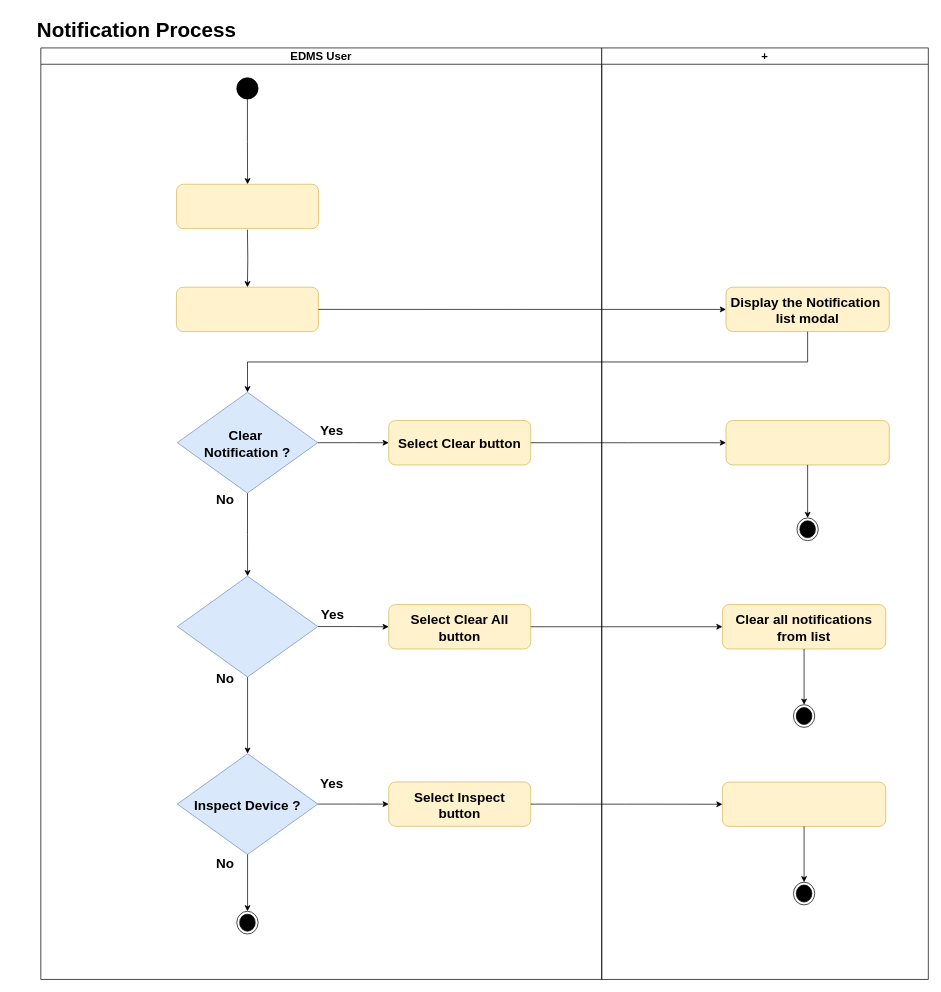
This 941x992 diagram has some shape labels left out. The shapes that lost their labels are listed below. From the top down, each one's box as (x1, y1, x2, y2) in pixels, then its label:
(176, 184, 319, 229): Navigate to Dashboard
(176, 286, 318, 332): Select Notifications button
(725, 420, 889, 465): Clear notification from list
(177, 575, 318, 677): Clear All Notifications ?
(722, 781, 886, 826): Display Device inspection list
